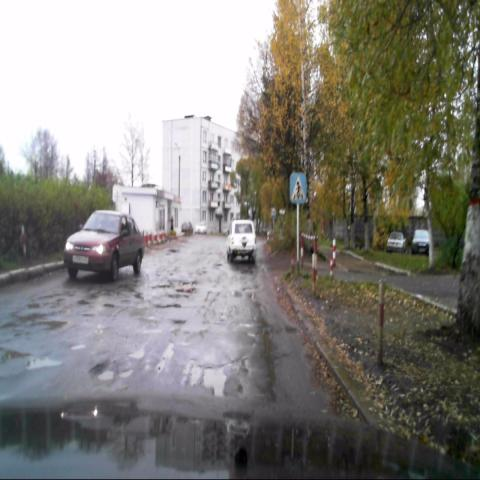5_19_1: (290, 173, 306, 203)
